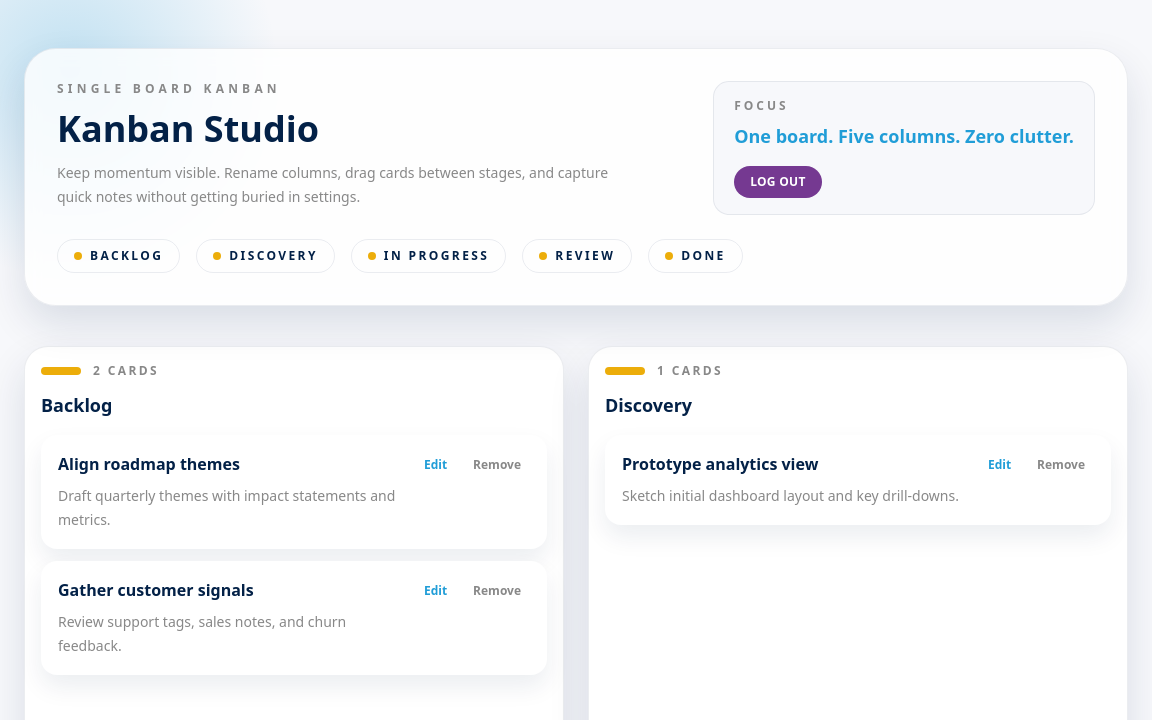
AppShell › shows an error when board save fails
The image size is (1152, 720).
Replace the text in the 1st field named "column title" with "Unsaveable Backlog" at (294, 405), box [41,391,547,419]
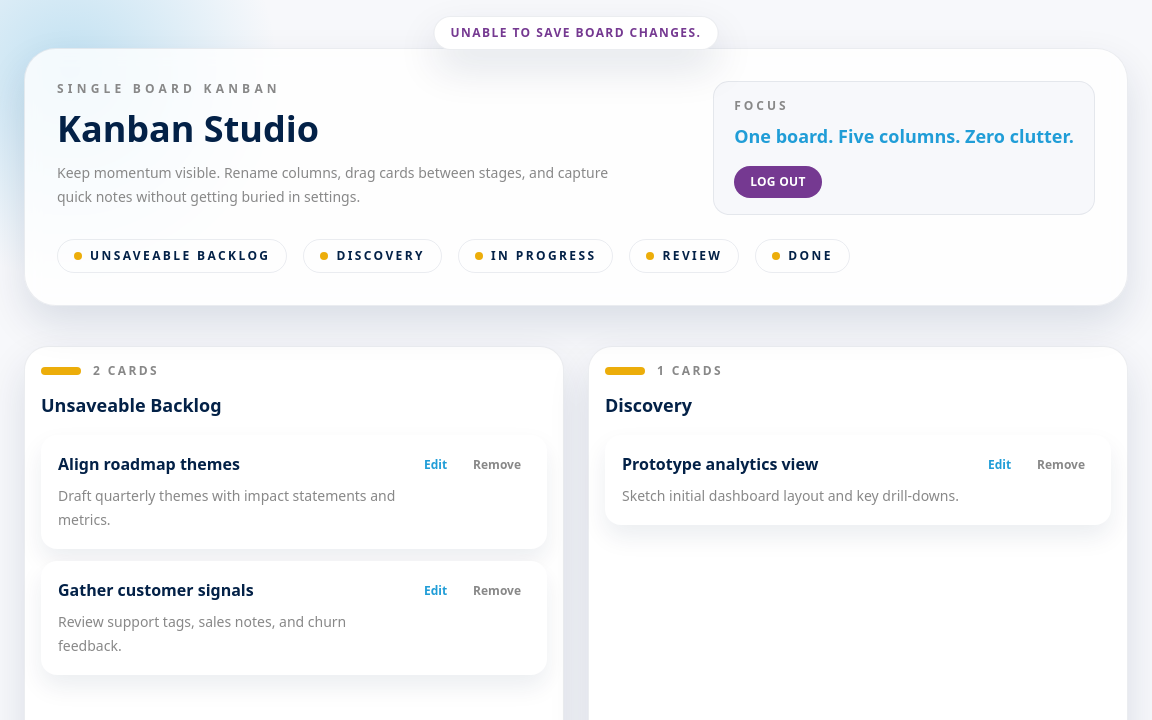
Expected: the text "Unable to save board changes." is shown, [434,16,718,50]
